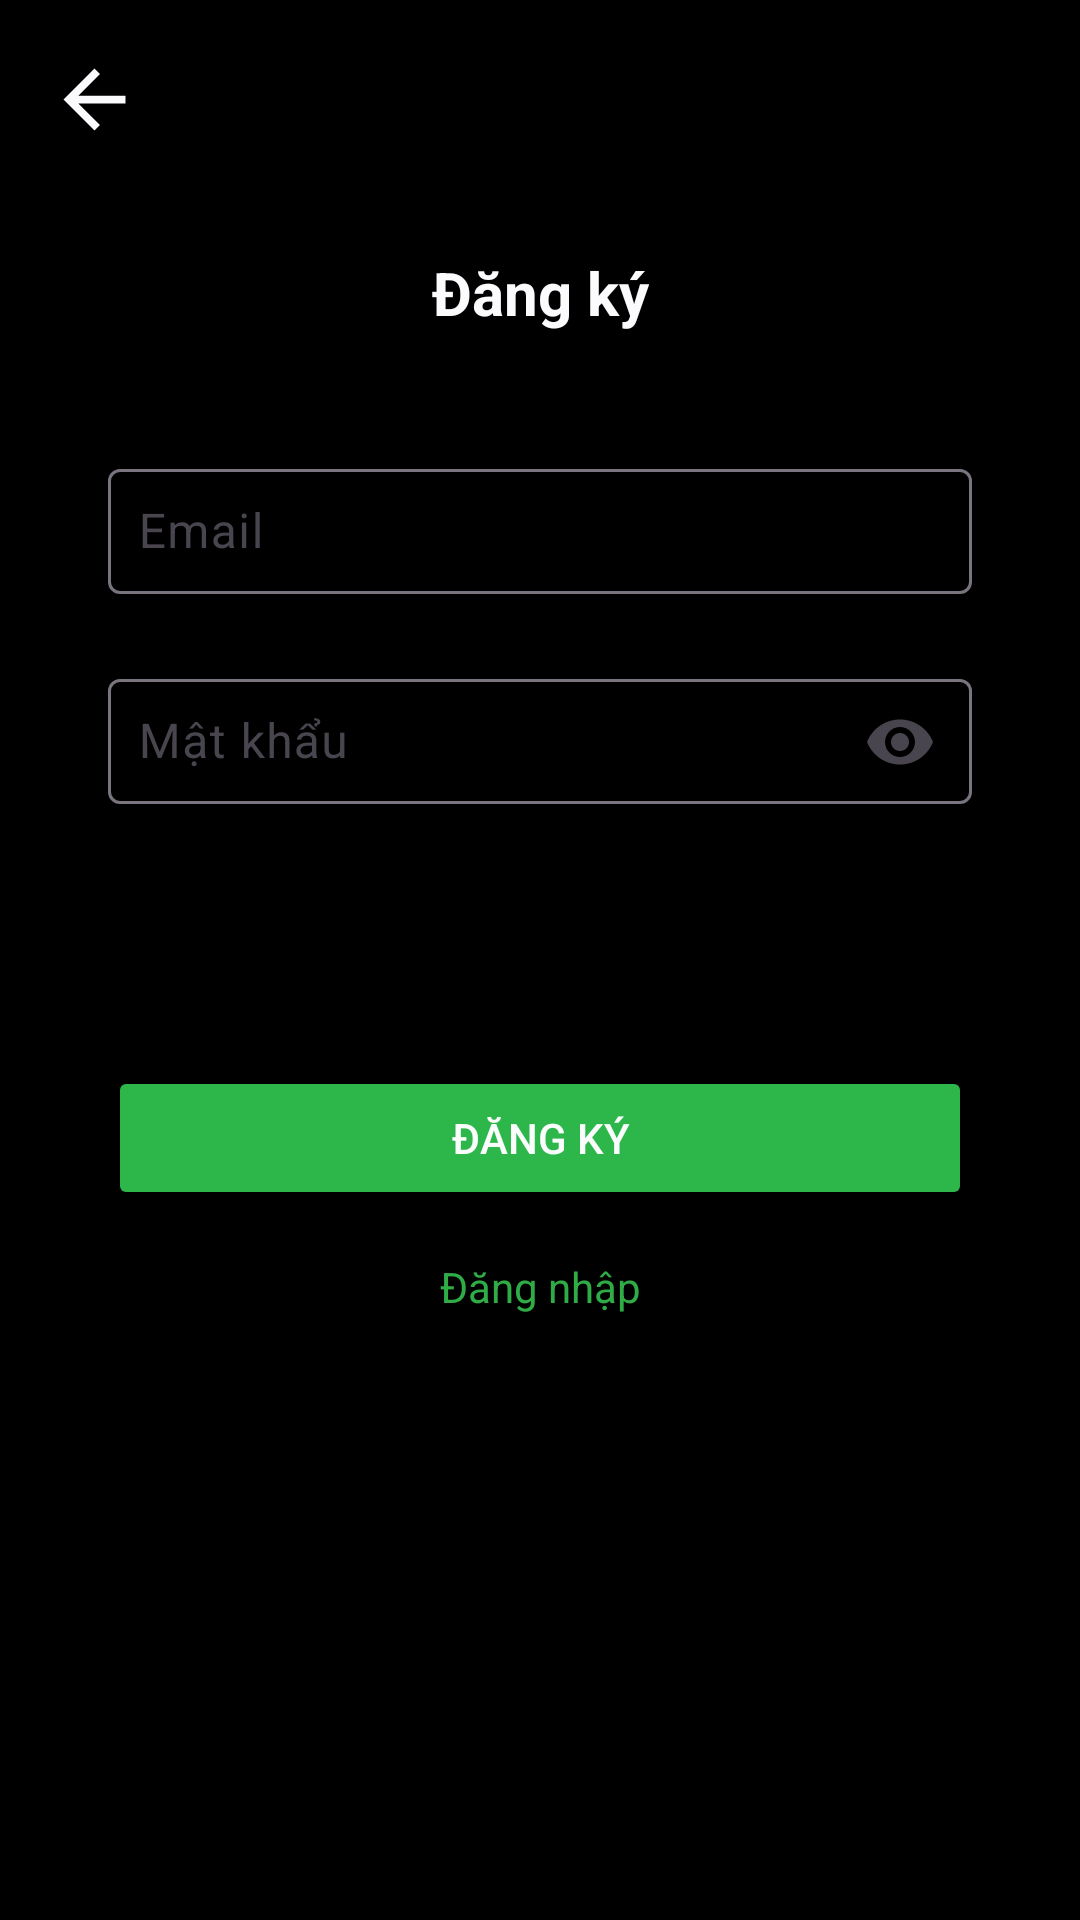

Icon bounding boxes for this 1080×1920 phone screenshot, format (x1, y1, x2, y2):
Back: (63, 68, 126, 131)
